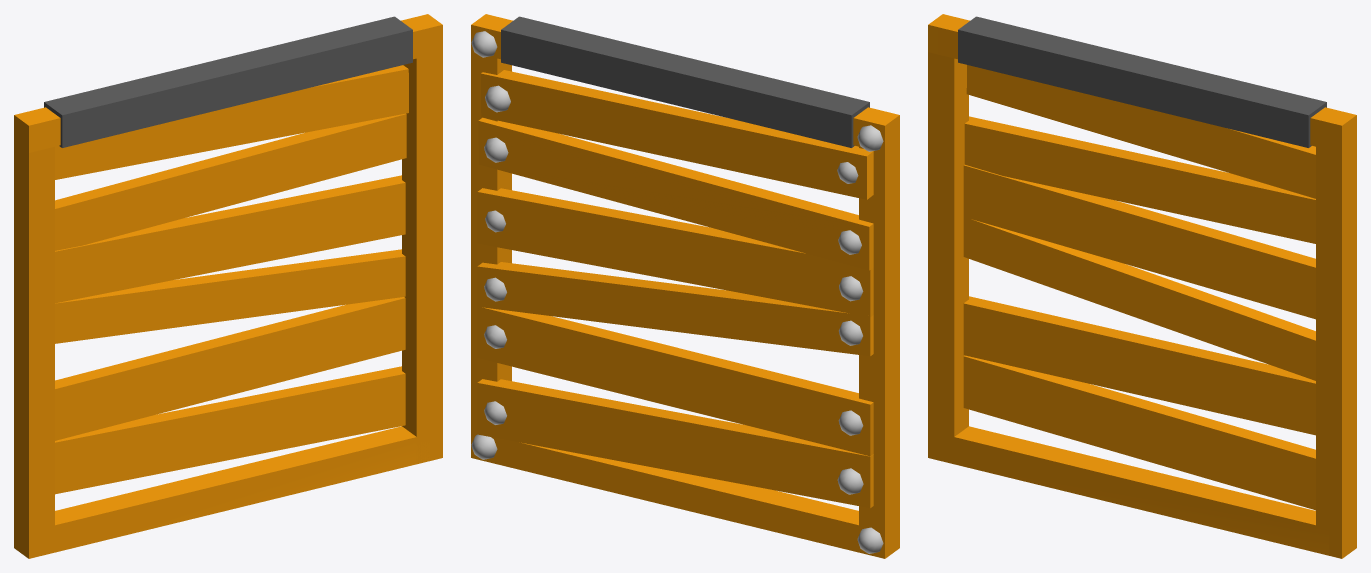
File: Wood_barrier_4.fbx
3 views of the same model, side by side, from view 1: azimuth 30°, elevation 25°; view 2: azimuth 150°, elevation 25°; view 3: azimuth 330°, elevation 25° (orthographic).
Parts seen in each view (by area): view 1: Wood_barrier_4; view 2: Wood_barrier_4; view 3: Wood_barrier_4.
Part boxes in pixels (x1,y1,x2,y2): Wood_barrier_4: (14, 14, 442, 558); Wood_barrier_4: (471, 14, 899, 558); Wood_barrier_4: (928, 14, 1356, 558).
Size of the model in its own units: 3.2 by 3.23 by 0.3585.
1 material, 1 textured.
